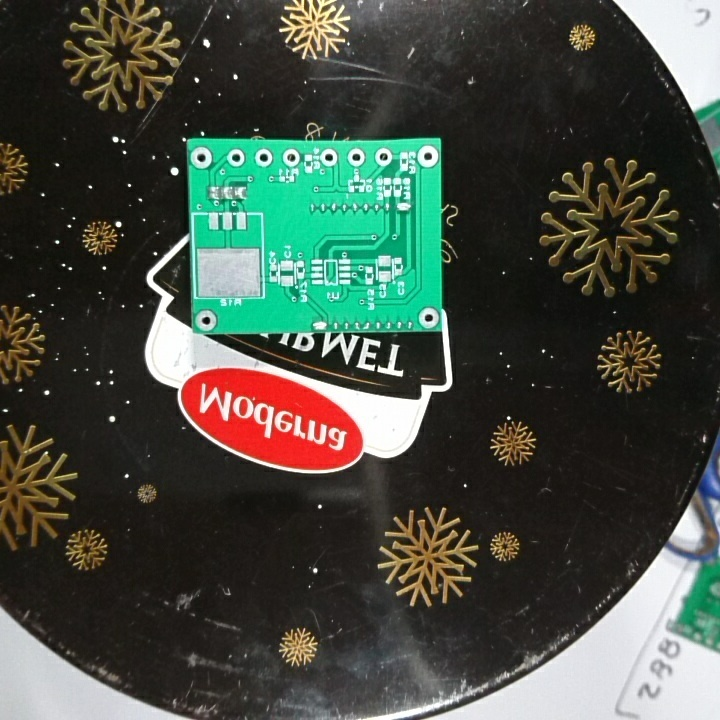F: (194, 306, 220, 332), (190, 146, 216, 171), (415, 144, 439, 169), (418, 306, 441, 332), (345, 146, 368, 167), (373, 146, 394, 168), (254, 147, 274, 169), (226, 147, 246, 169), (318, 147, 339, 167), (280, 149, 301, 167)
P: (394, 198, 414, 216), (310, 318, 329, 332)
